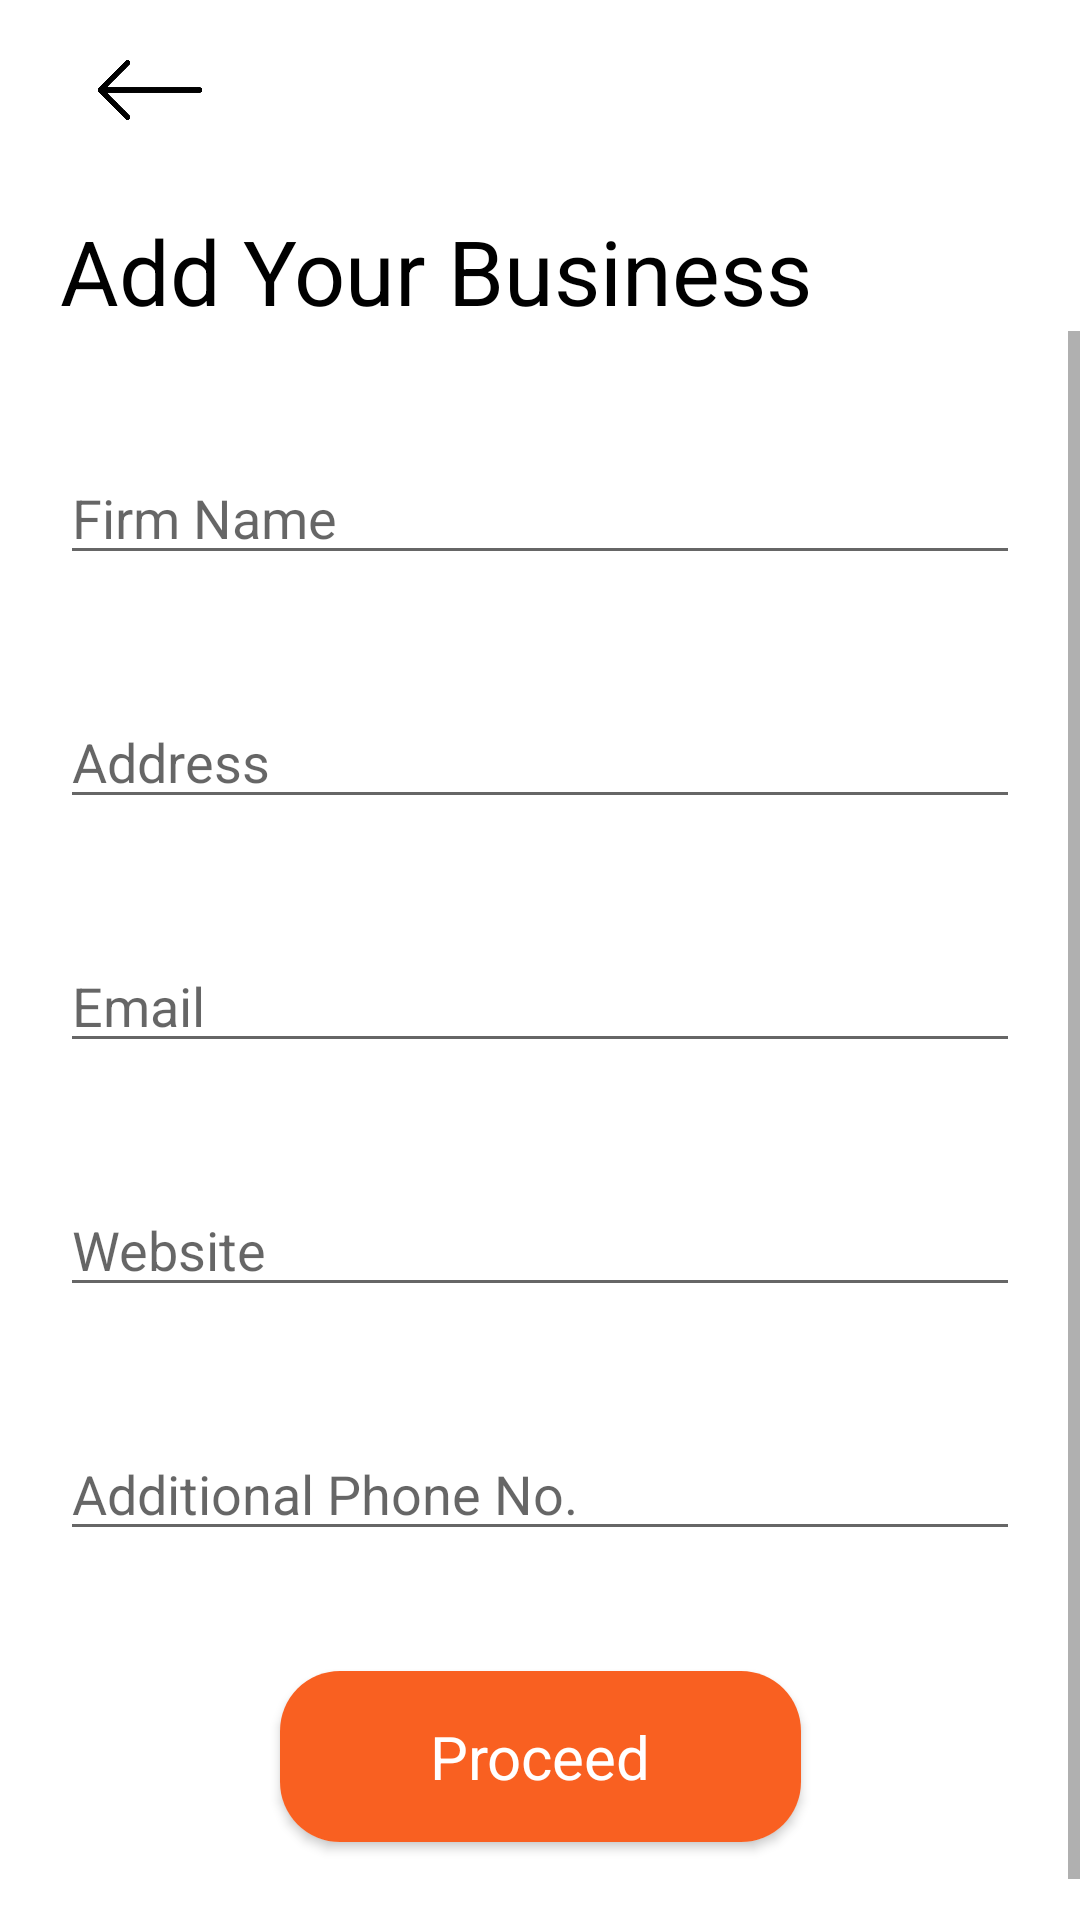

Icons on this 1080 × 1920 Android screen, each with the point to tap as [x,y]:
leftarrow: [150,90]
